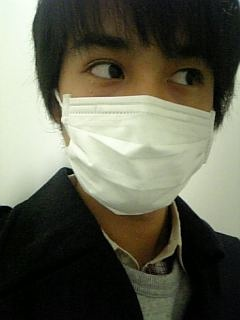face_mask: (63, 0, 216, 216)
